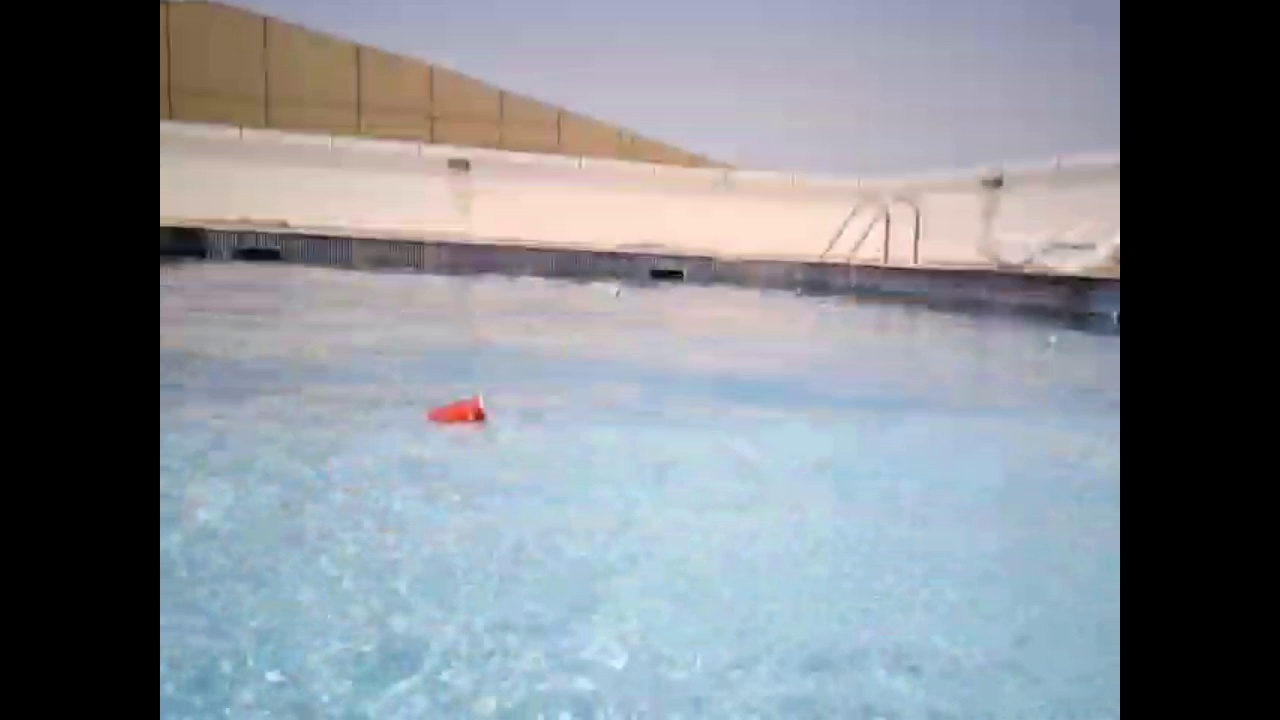debris: (421, 390, 496, 439), (1042, 334, 1062, 349), (606, 282, 622, 299), (793, 283, 802, 295)
